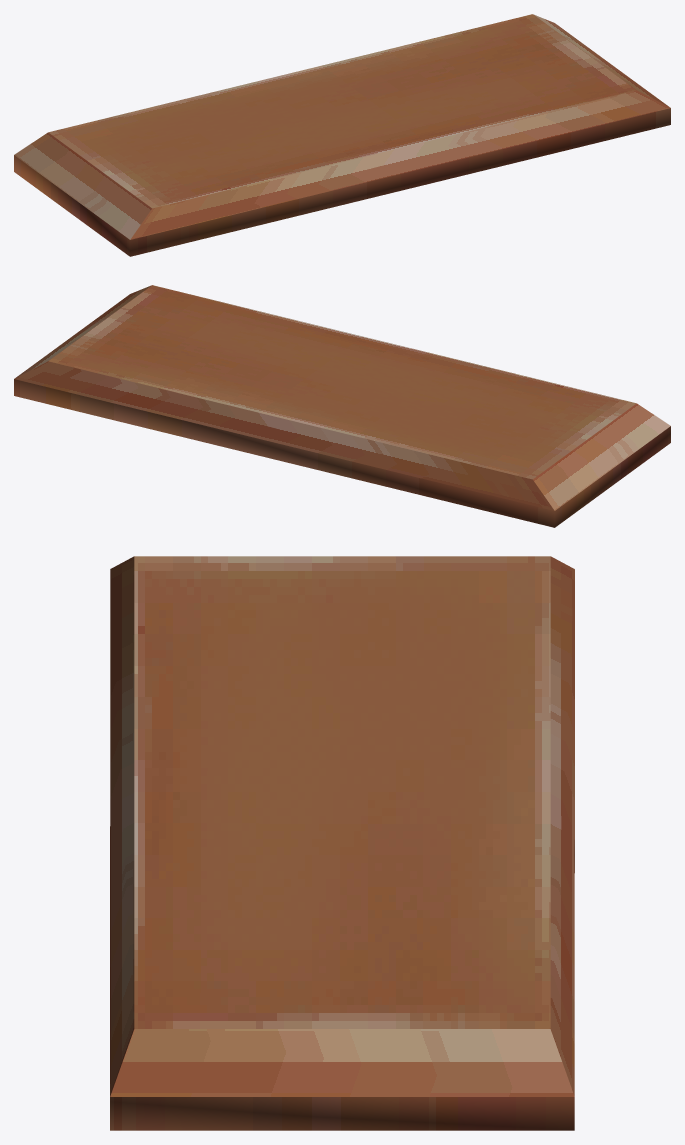
3 renders of one model, top to bottom at view 1: azimuth 30°, elevation 25°; view 2: azimuth 150°, elevation 25°; view 3: azimuth 270°, elevation 25°, orthographic. The views are drawn at different scales.
Parts seen in each view (by area): view 1: mt_10; view 2: mt_10; view 3: mt_10.
Part boxes in pixels (x1,y1,x2,y2): mt_10: [14, 14, 670, 256]; mt_10: [14, 285, 670, 527]; mt_10: [110, 556, 574, 1130].
Size of the model in its own units: 0.6776 by 0.0444 by 0.2522.
Materials: 1 (1 with a texture image).
